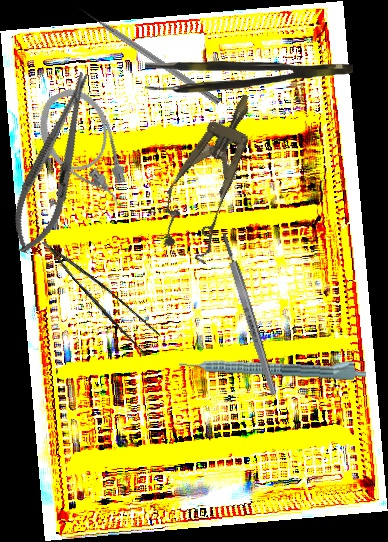Cannula: (28, 79, 140, 223)
Handpiece: (178, 350, 367, 381)
Hook Surgical: (76, 3, 222, 106)
Needle Holder: (1, 66, 108, 260)
Scalpel Handle: (219, 231, 279, 397)
Speculum: (147, 82, 276, 265)
Tissue Forceps: (41, 224, 164, 358), (145, 61, 353, 93)
